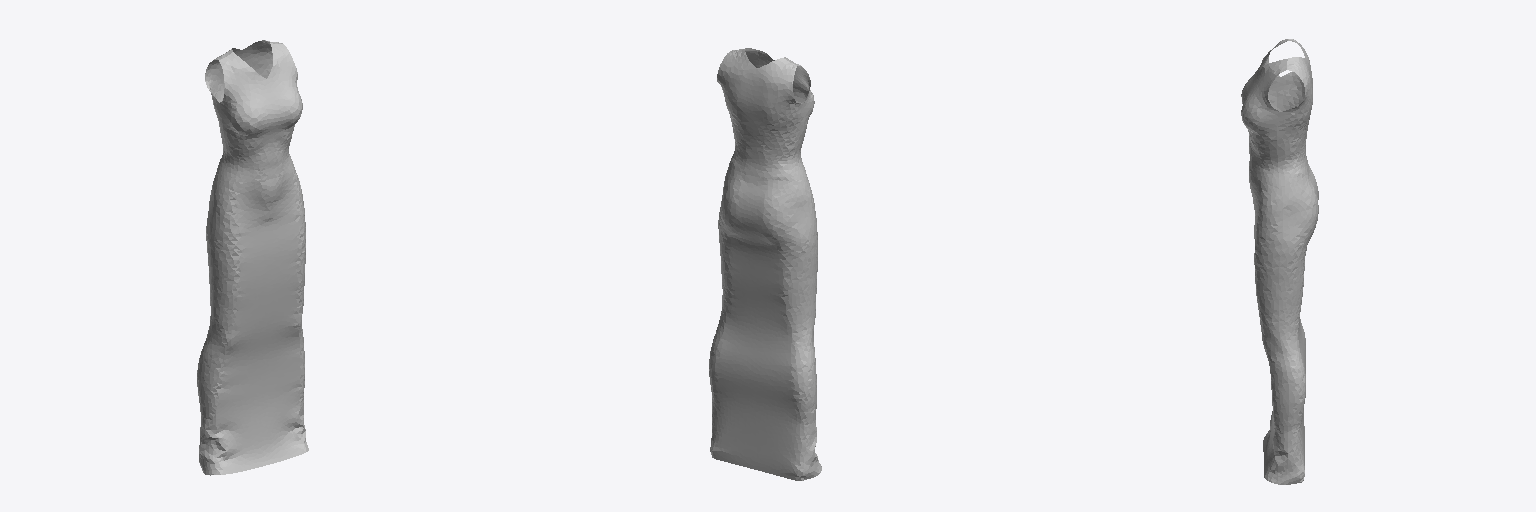
Rendered from free_clothes_2.obj.
3 renders of one model, left to right at view 1: azimuth 30°, elevation 25°; view 2: azimuth 150°, elevation 25°; view 3: azimuth 270°, elevation 25°, orthographic.
Visible parts, largest first — view 1: Cloth_Shape; view 2: Cloth_Shape; view 3: Cloth_Shape.
Boxes of the visible parts, <box> form: Cloth_Shape: <box>197,40,308,475</box>; Cloth_Shape: <box>709,48,821,480</box>; Cloth_Shape: <box>1241,39,1318,484</box>.
Bounding box in the file's own units: 398 × 1529 × 260.